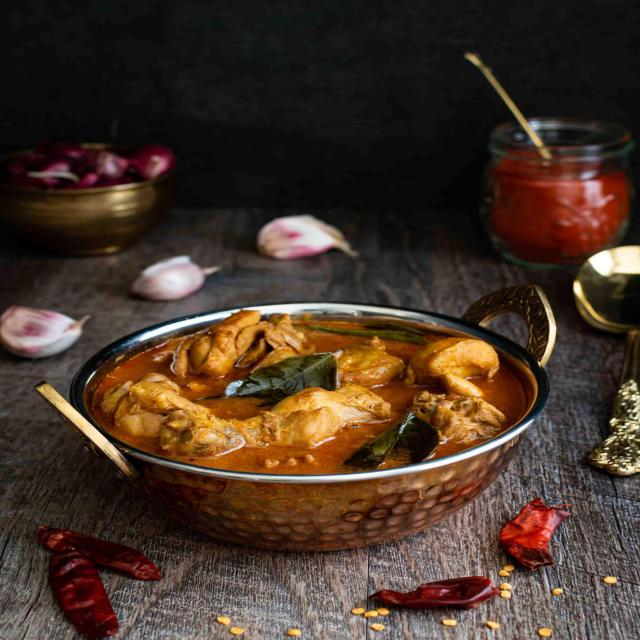chicken: (82, 314, 563, 497)
